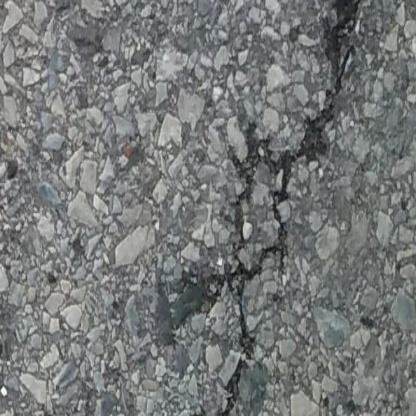Cracks: (187, 0, 377, 416)
